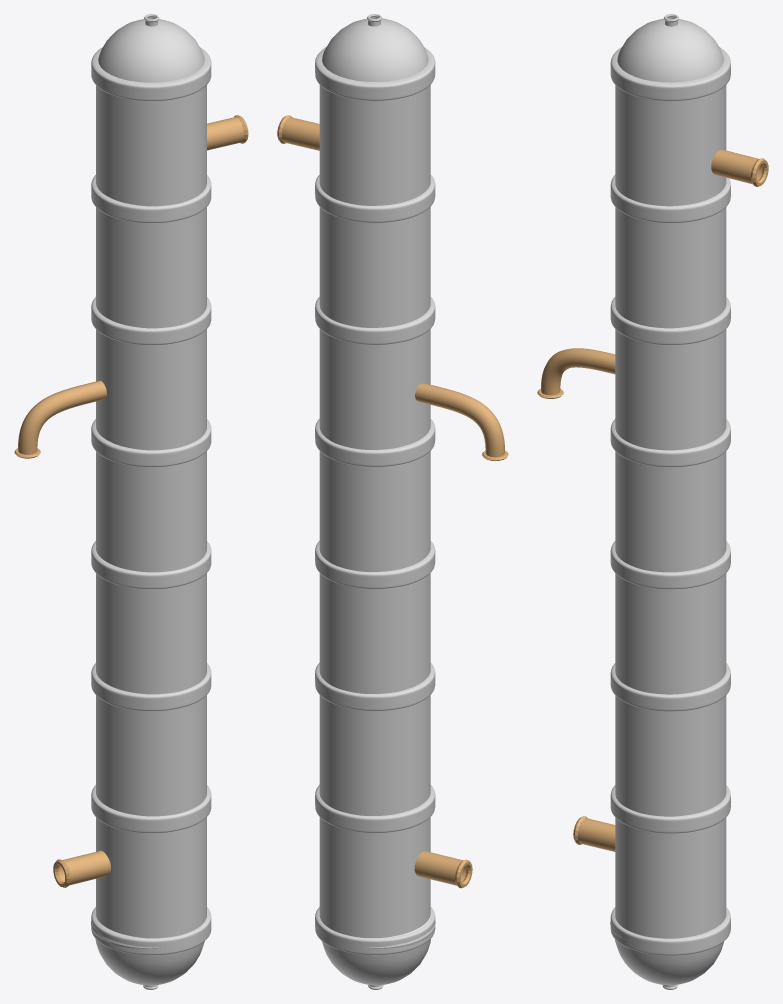
The model's file is asset.glb.
3 views of the same model, side by side, from view 1: azimuth 30°, elevation 25°; view 2: azimuth 150°, elevation 25°; view 3: azimuth 330°, elevation 25° (orthographic).
Parts seen in each view (by area): view 1: Cylinder.006, Cylinder, Sphere, Sphere.001, NurbsPath.001, Cylinder.002, Cylinder.003; view 2: Cylinder.006, Cylinder, Sphere, Sphere.001, NurbsPath.001, Cylinder.002, Cylinder.003; view 3: Cylinder.006, Cylinder, Sphere, Sphere.001, NurbsPath.001, Cylinder.003, Cylinder.002.
Part boxes in pixels (left/top/right/bottom): Cylinder.006: left=96, top=85, right=206, bottom=938; Cylinder: left=91, top=47, right=211, bottom=955; Sphere: left=98, top=19, right=204, bottom=82; Sphere.001: left=95, top=939, right=204, bottom=985; NurbsPath.001: left=18, top=380, right=106, bottom=454; Cylinder.002: left=59, top=850, right=110, bottom=885; Cylinder.003: left=207, top=117, right=243, bottom=150; Cylinder.006: left=319, top=85, right=430, bottom=937; Cylinder: left=315, top=47, right=435, bottom=955; Sphere: left=322, top=18, right=428, bottom=81; Sphere.001: left=322, top=939, right=430, bottom=985; NurbsPath.001: left=415, top=383, right=504, bottom=457; Cylinder.002: left=414, top=851, right=466, bottom=885; Cylinder.003: left=281, top=117, right=319, bottom=150; Cylinder.006: left=615, top=85, right=726, bottom=938; Cylinder: left=610, top=47, right=730, bottom=955; Sphere: left=617, top=18, right=723, bottom=82; Sphere.001: left=615, top=939, right=723, bottom=985; NurbsPath.001: left=541, top=348, right=615, bottom=395; Cylinder.003: left=711, top=149, right=762, bottom=184; Cylinder.002: left=578, top=818, right=615, bottom=851.
Size of the model in its own units: 5.41 by 22.36 by 2.51.
